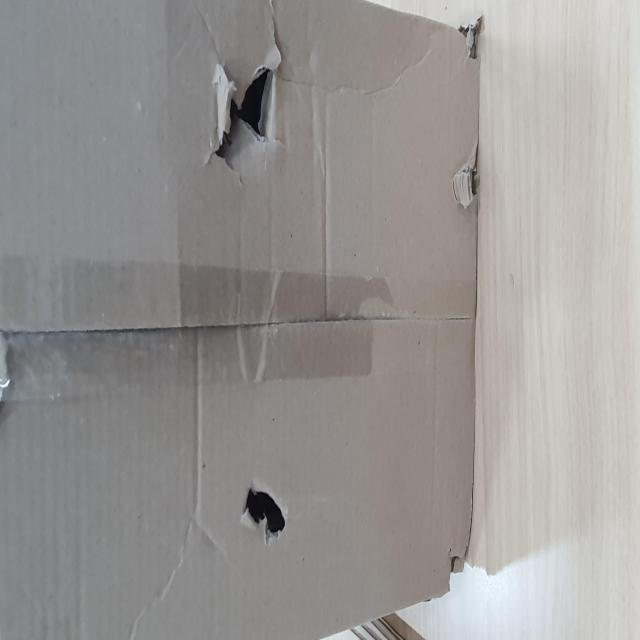damaged: (269, 380, 336, 506), (53, 417, 94, 516)
